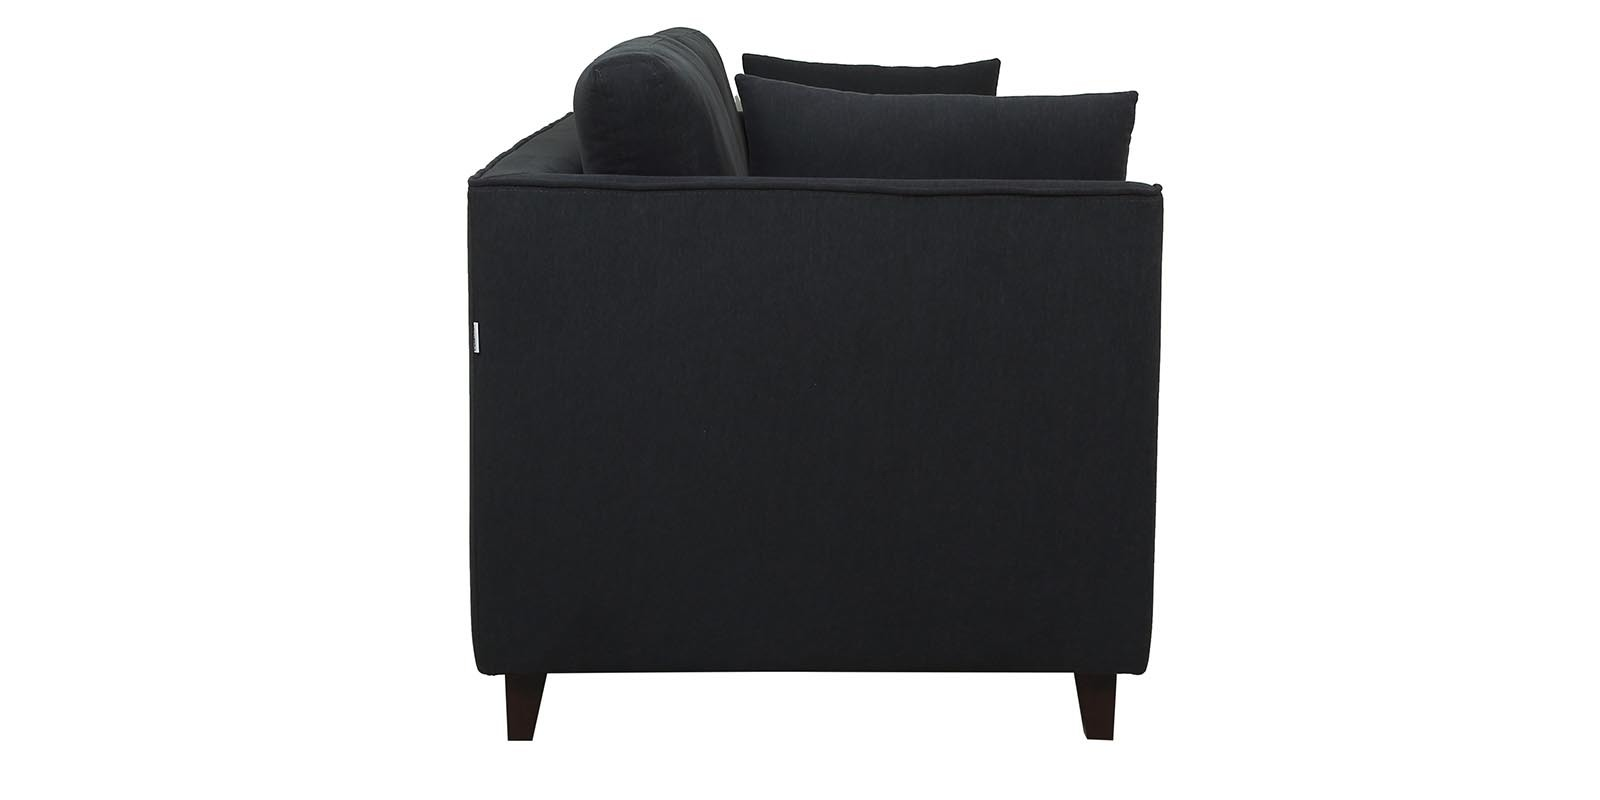Miranda Three Seater Sofa in Charcoal Grey Colour by CasaCraft: (469, 24, 1166, 742)
